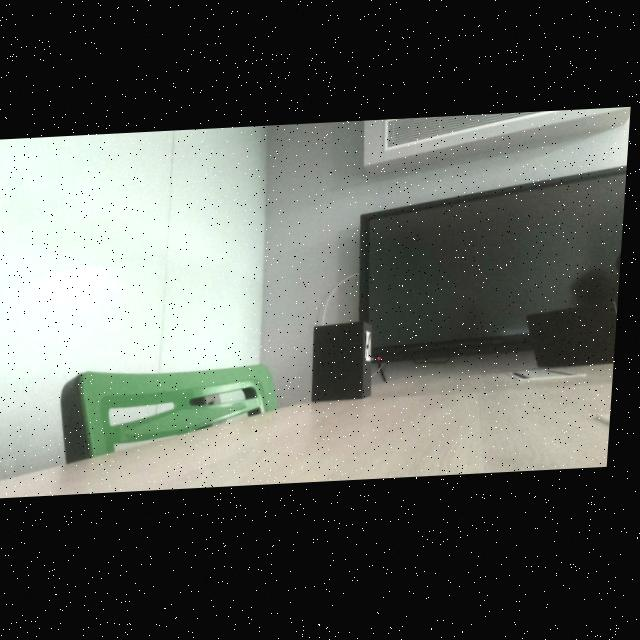H: (372, 339, 375, 362)
